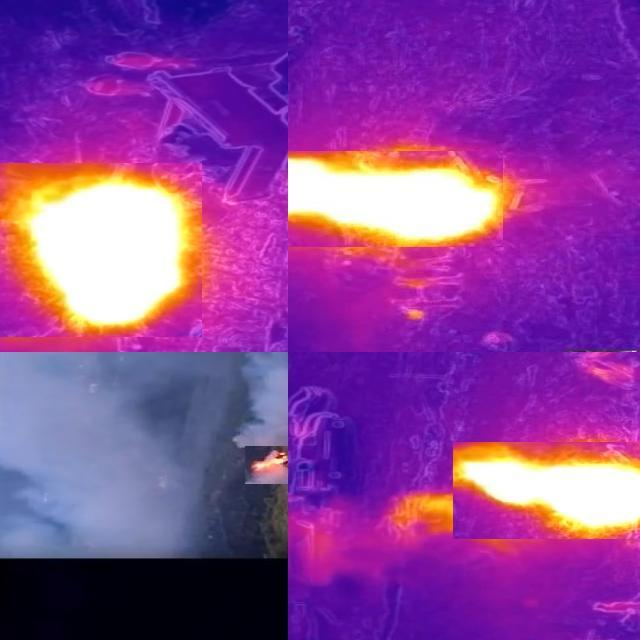fire: (1, 162, 203, 336), (289, 151, 504, 247), (454, 442, 640, 539)
